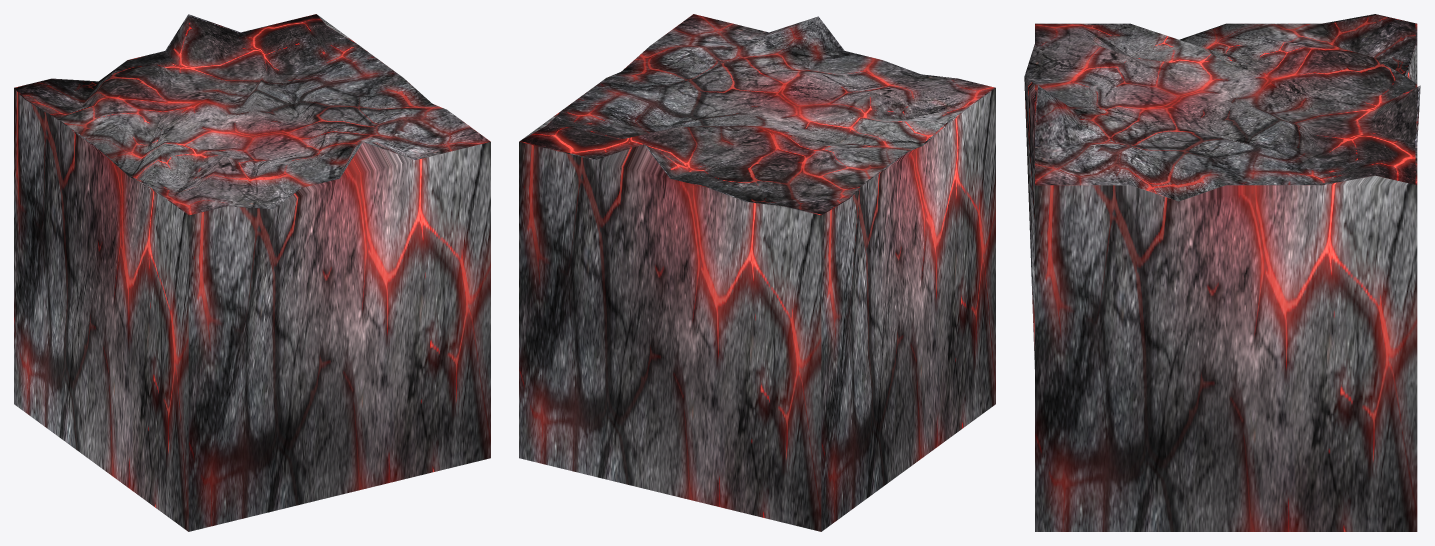
File: magma.glb
3 renders of one model, left to right at view 1: azimuth 30°, elevation 25°; view 2: azimuth 150°, elevation 25°; view 3: azimuth 270°, elevation 25°, orthographic. The views are drawn at different scales.
Parts seen in each view (by area): view 1: Cube.001; view 2: Cube.001; view 3: Cube.001.
Part boxes in pixels (left/top/right/bottom): Cube.001: left=14, top=14, right=490, bottom=531; Cube.001: left=519, top=14, right=995, bottom=531; Cube.001: left=1024, top=14, right=1420, bottom=531.
Size of the model in its own units: 1.05 by 1.09 by 1.04.
Materials: 1 (1 with a texture image).
